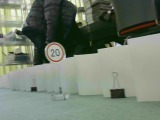speed_20: (44, 42, 66, 63)
